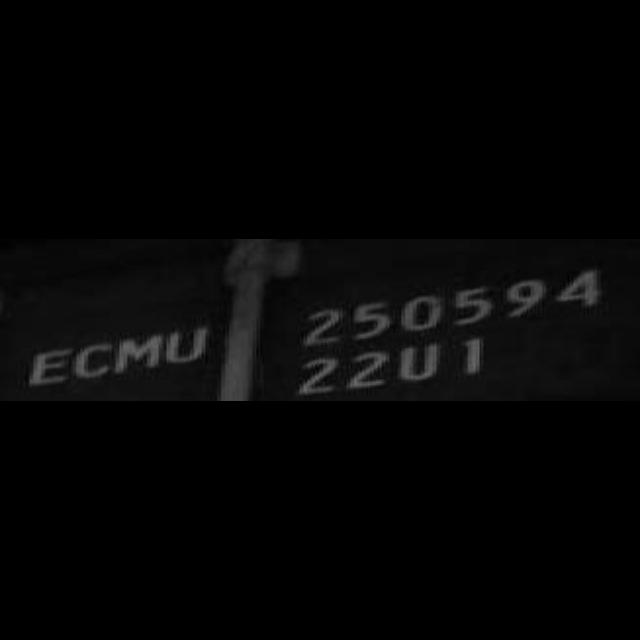0: (402, 290, 442, 338)
1: (459, 334, 491, 388)
2: (295, 350, 341, 400), (350, 346, 390, 398), (303, 304, 341, 350)
4: (555, 264, 603, 316)
5: (350, 296, 392, 346), (452, 282, 490, 330)
9: (505, 273, 545, 325)
c: (74, 336, 116, 382)
e: (26, 338, 76, 392)
m: (114, 328, 164, 380)
u: (166, 316, 212, 369), (398, 339, 440, 389)
